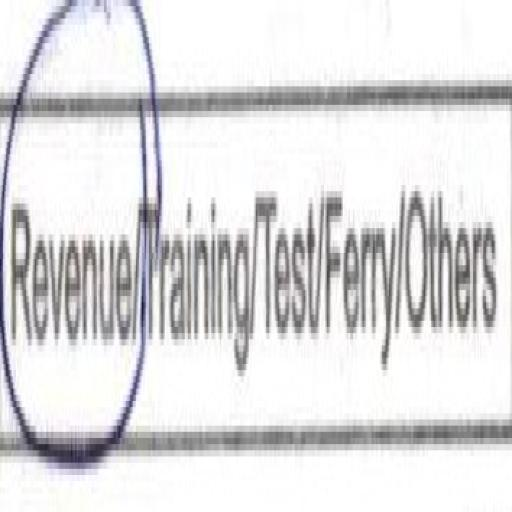check: (0, 0, 141, 493)
